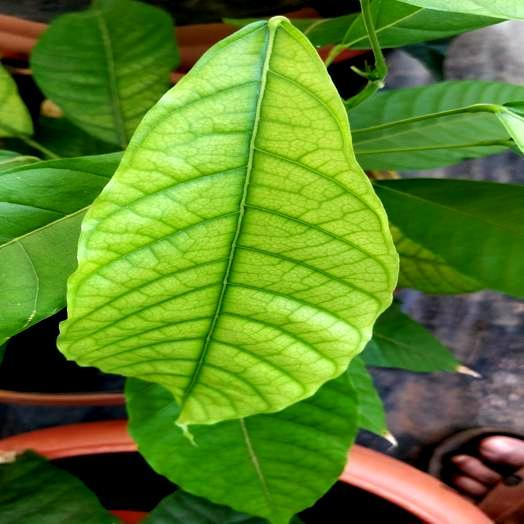Healthy Leaf: (126, 374, 357, 523), (0, 153, 121, 343), (375, 178, 523, 296), (361, 303, 462, 372), (349, 358, 395, 442)
Iron: (59, 17, 397, 428), (32, 0, 178, 147), (391, 225, 486, 294)
